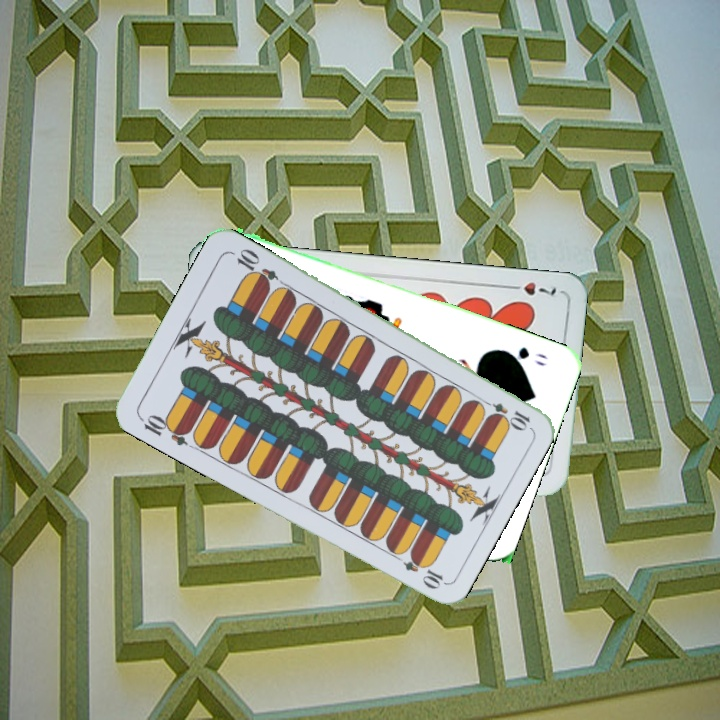E10: (135, 410, 193, 449), (476, 395, 533, 432)
GO: (497, 343, 549, 369)
H7: (502, 278, 559, 298)
